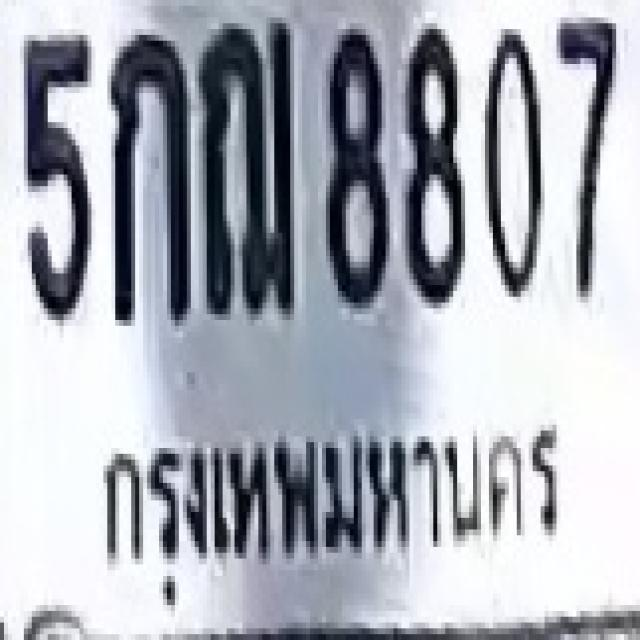-: (197, 15, 292, 311), (107, 29, 187, 320)
0: (481, 23, 541, 297)
5: (20, 29, 87, 320)
7: (553, 14, 612, 294)
8: (322, 23, 386, 303), (402, 23, 461, 303)
BKK: (77, 388, 573, 607)
